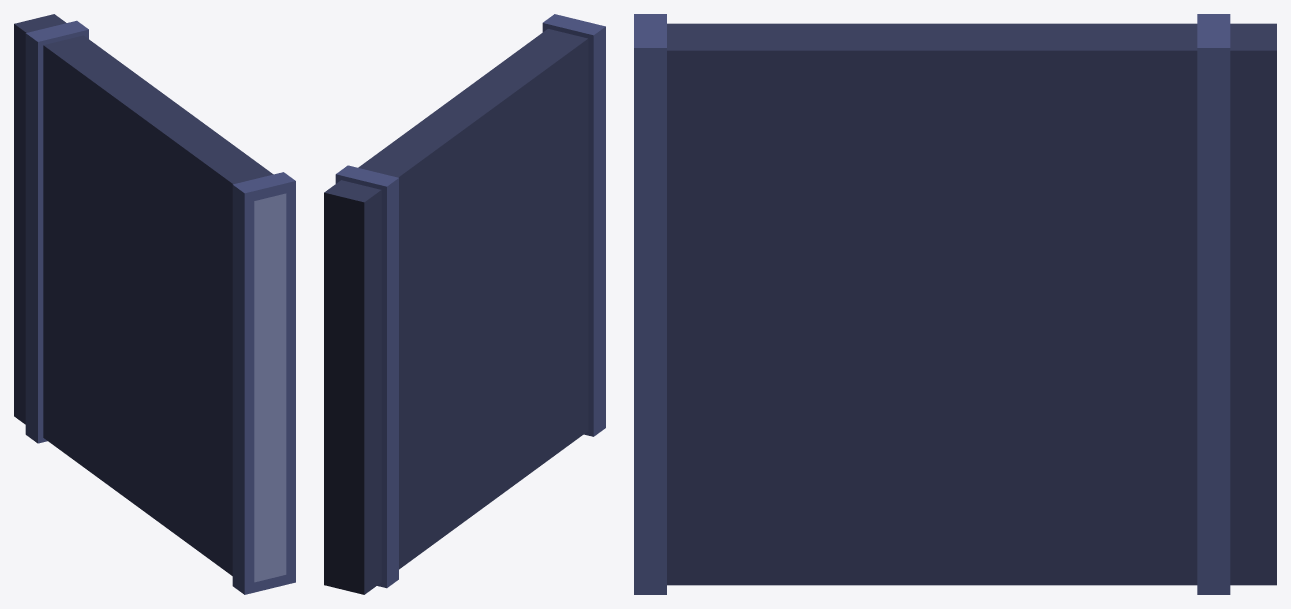
The model's file is Door.fbx.
3 renders of one model, left to right at view 1: azimuth 30°, elevation 25°; view 2: azimuth 150°, elevation 25°; view 3: azimuth 270°, elevation 25°, orthographic. The views are drawn at different scales.
Visible parts, largest first — view 1: DoorShut, DoorOpen; view 2: DoorShut, DoorOpen; view 3: DoorShut, DoorOpen.
Boxes of the visible parts, x1,y1,x2,y2 form: DoorShut: (14,14,295,594); DoorOpen: (14,14,88,443); DoorShut: (326,14,605,594); DoorOpen: (324,165,398,594); DoorShut: (634,14,1276,594); DoorOpen: (1197,14,1276,594).
Size of the model in its own units: 50 by 375 by 399.
